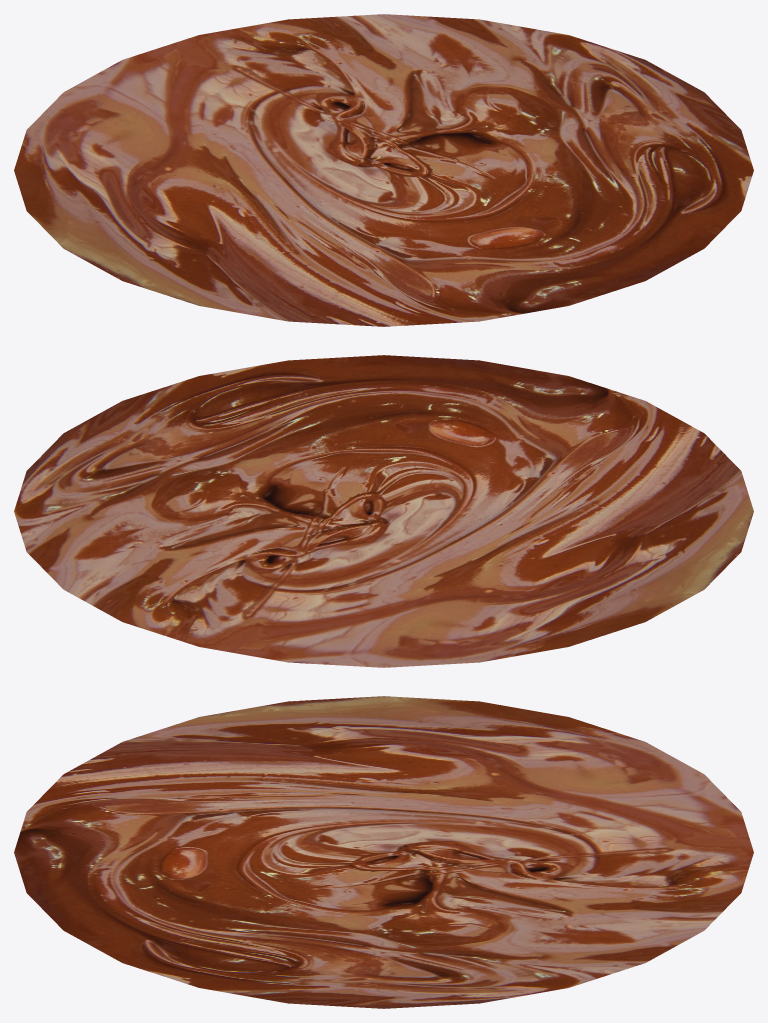
File: chocoPlate.fbx
3 renders of one model, top to bottom at view 1: azimuth 30°, elevation 25°; view 2: azimuth 150°, elevation 25°; view 3: azimuth 270°, elevation 25°, orthographic.
Visible parts, largest first — view 1: pDisc1; view 2: pDisc1; view 3: pDisc1.
Part boxes in pixels (<box>): pDisc1: <box>14,14,753,326</box>; pDisc1: <box>14,355,753,667</box>; pDisc1: <box>14,696,753,1008</box>.
Size of the model in its own units: 2 by 0 by 2.
